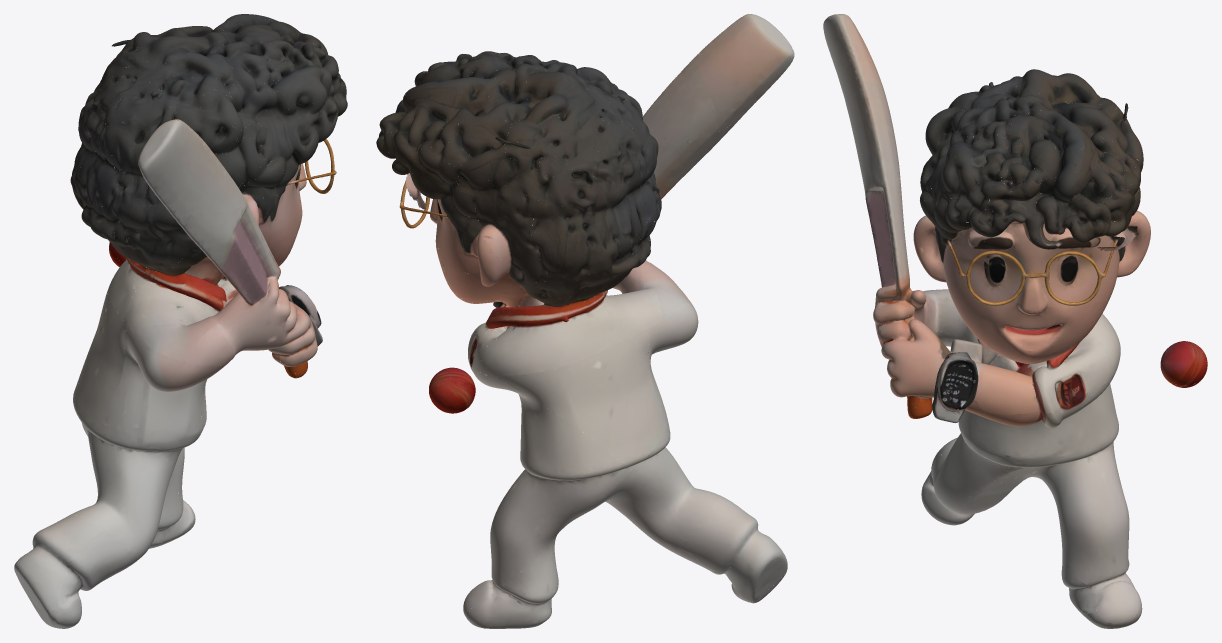
The model's file is cricket_improved.glb.
3 renders of one model, left to right at view 1: azimuth 30°, elevation 25°; view 2: azimuth 150°, elevation 25°; view 3: azimuth 270°, elevation 25°, orthographic.
Parts seen in each view (by area): view 1: tripo_node_cbfa7ef2-cbd0-4232-bcf0-ea8c8486be0d; view 2: tripo_node_cbfa7ef2-cbd0-4232-bcf0-ea8c8486be0d; view 3: tripo_node_cbfa7ef2-cbd0-4232-bcf0-ea8c8486be0d.
Boxes of the visible parts, bbox=[...] form: tripo_node_cbfa7ef2-cbd0-4232-bcf0-ea8c8486be0d: bbox=[14, 14, 347, 628]; tripo_node_cbfa7ef2-cbd0-4232-bcf0-ea8c8486be0d: bbox=[376, 14, 794, 628]; tripo_node_cbfa7ef2-cbd0-4232-bcf0-ea8c8486be0d: bbox=[823, 14, 1207, 628].
Bounding box in the file's own units: 0.6692 × 1 × 0.6418.
1 material, 1 textured.
